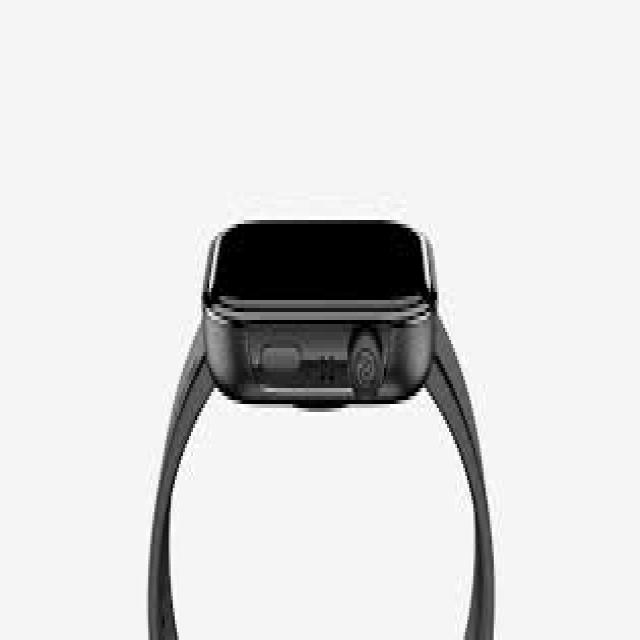objects: (0, 4, 638, 636), (171, 392, 471, 636), (173, 392, 471, 636), (171, 396, 469, 636)
